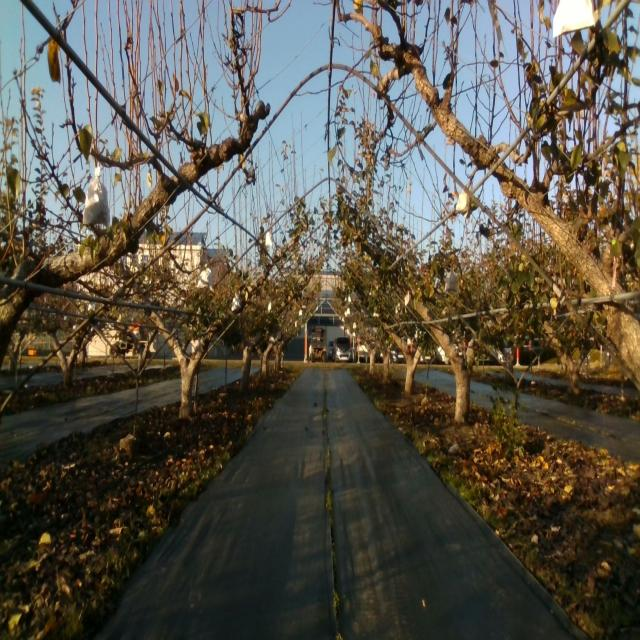pearbags: (552, 0, 595, 38), (83, 167, 110, 226), (196, 262, 212, 290), (456, 190, 469, 218), (444, 271, 457, 294)
